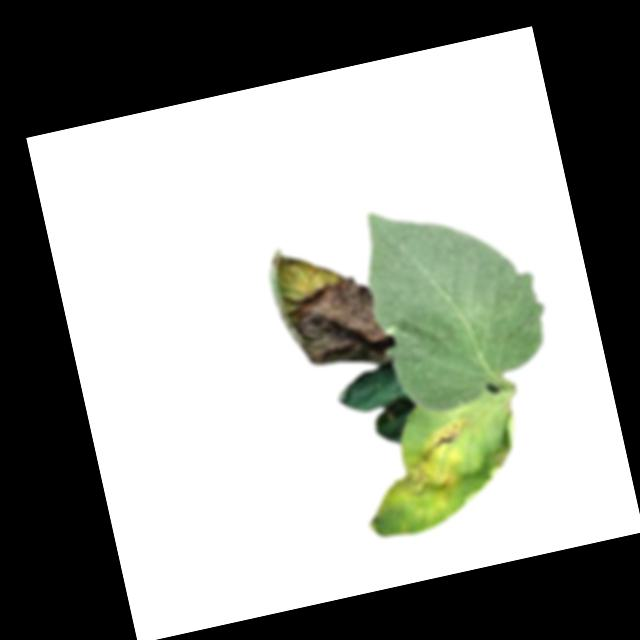Late_blight: (262, 227, 399, 385), (376, 416, 482, 510), (481, 443, 517, 479)
